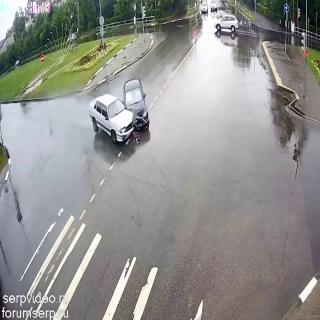Vehicle-Crash_Detected: (86, 83, 155, 147)
